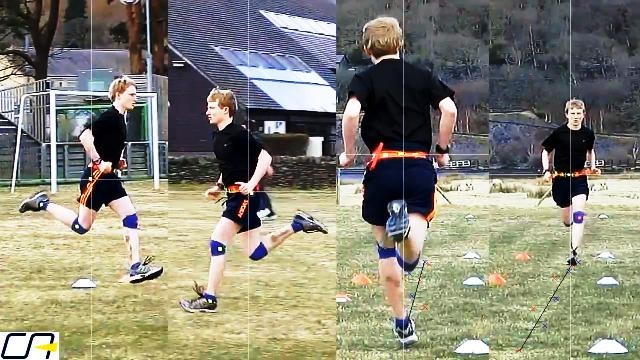berlari: (340, 11, 462, 343), (178, 74, 329, 308), (12, 74, 166, 288), (534, 92, 604, 270)
